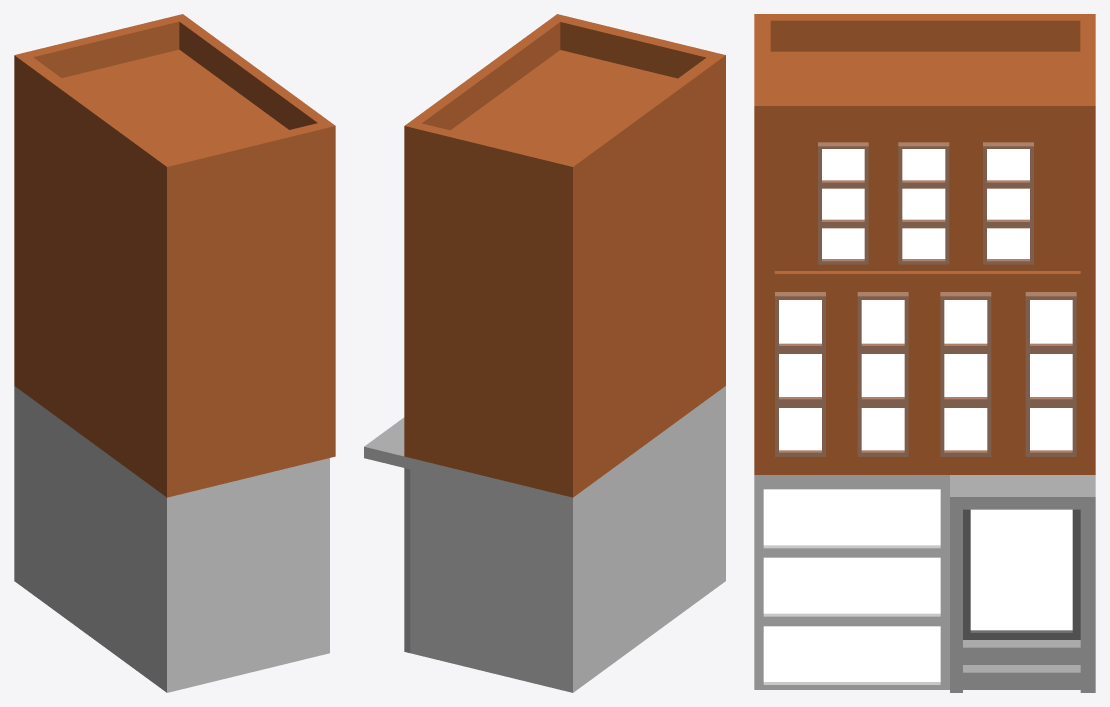
File: House 3.1.fbx
The picture shows the model from 3 angles, left to right: view 1: azimuth 30°, elevation 25°; view 2: azimuth 150°, elevation 25°; view 3: azimuth 270°, elevation 25°; orthographic projection. The views are drawn at different scales.
Parts seen in each view (by area): view 1: House 3.002; view 2: House 3.002; view 3: House 3.002.
Part boxes in pixels (left/top/right/bottom): House 3.002: left=14, top=14, right=335, bottom=692; House 3.002: left=364, top=14, right=725, bottom=692; House 3.002: left=754, top=14, right=1095, bottom=692.
Bounding box in the file's own units: 725 × 1743 × 919.
